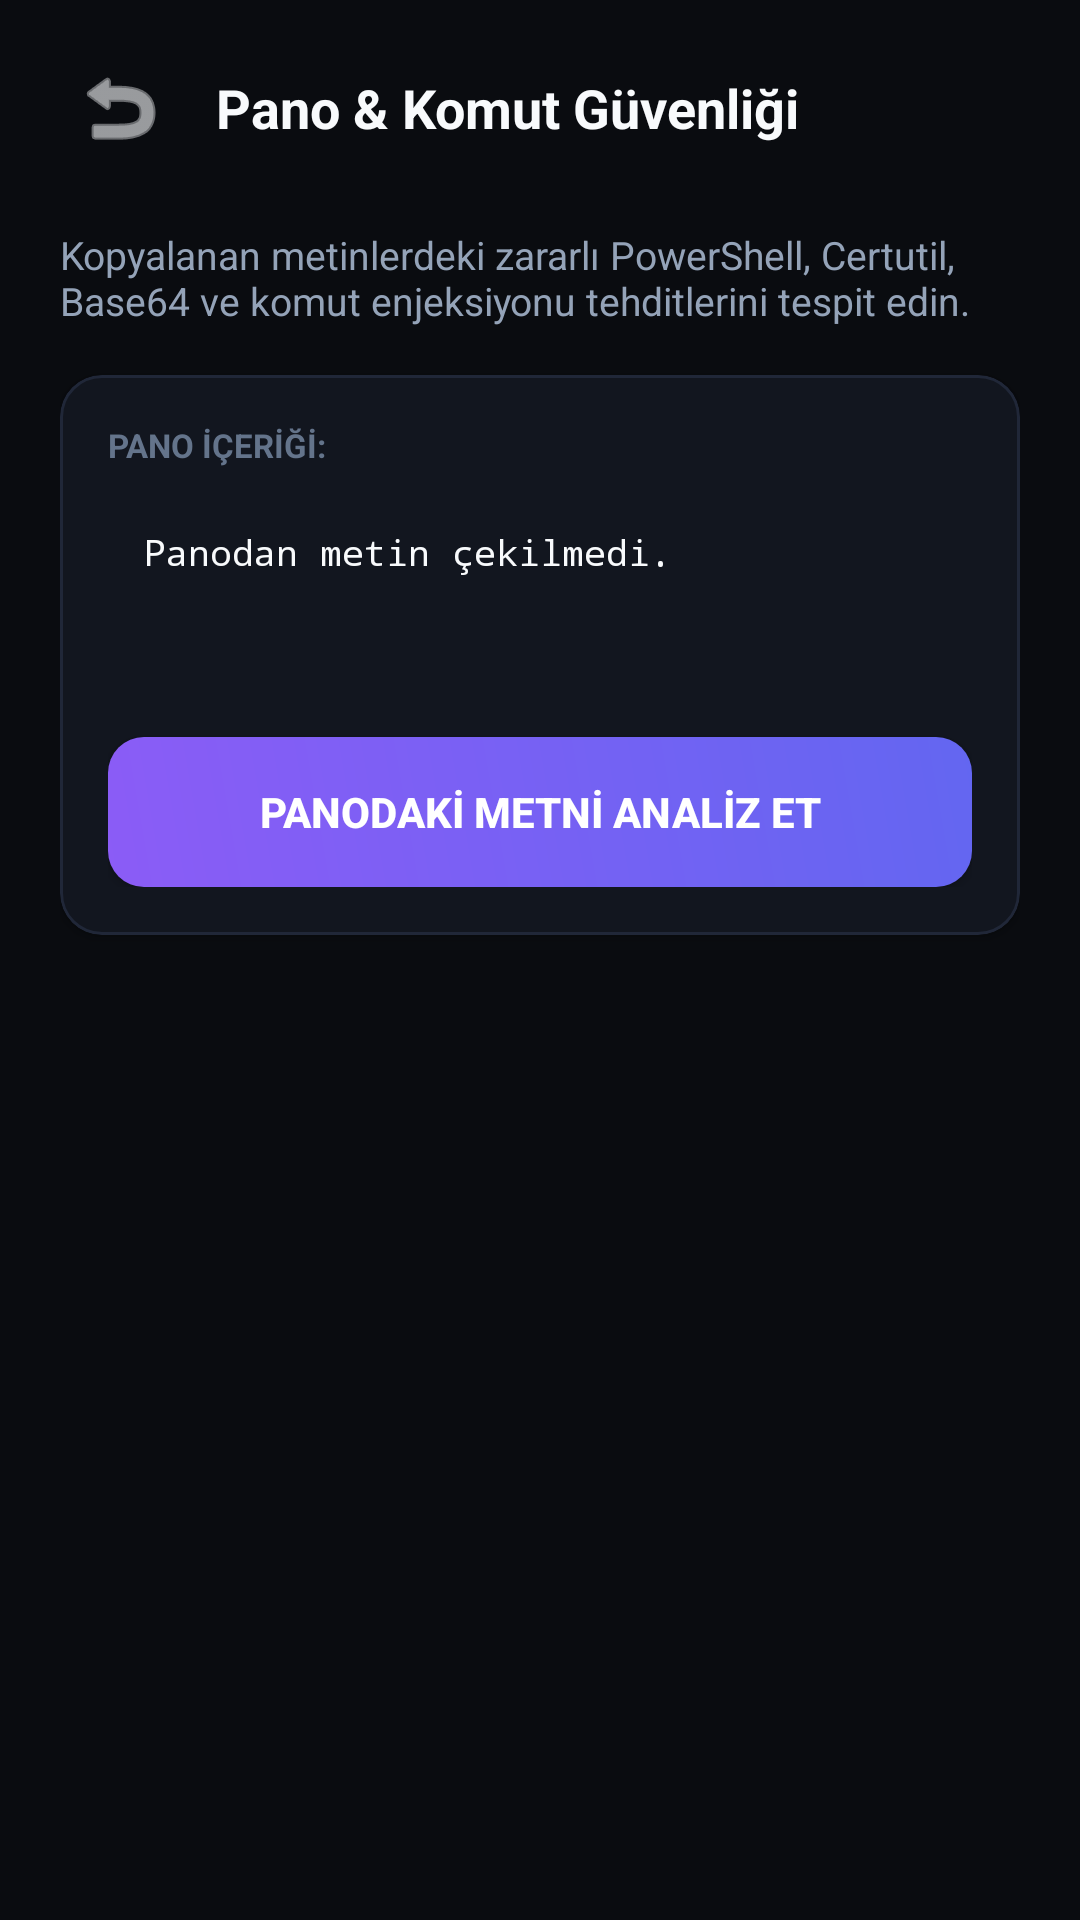

Icon click points for this 1080px x 1920px phone screenshot, format (x,y):
Back: (121,108)
